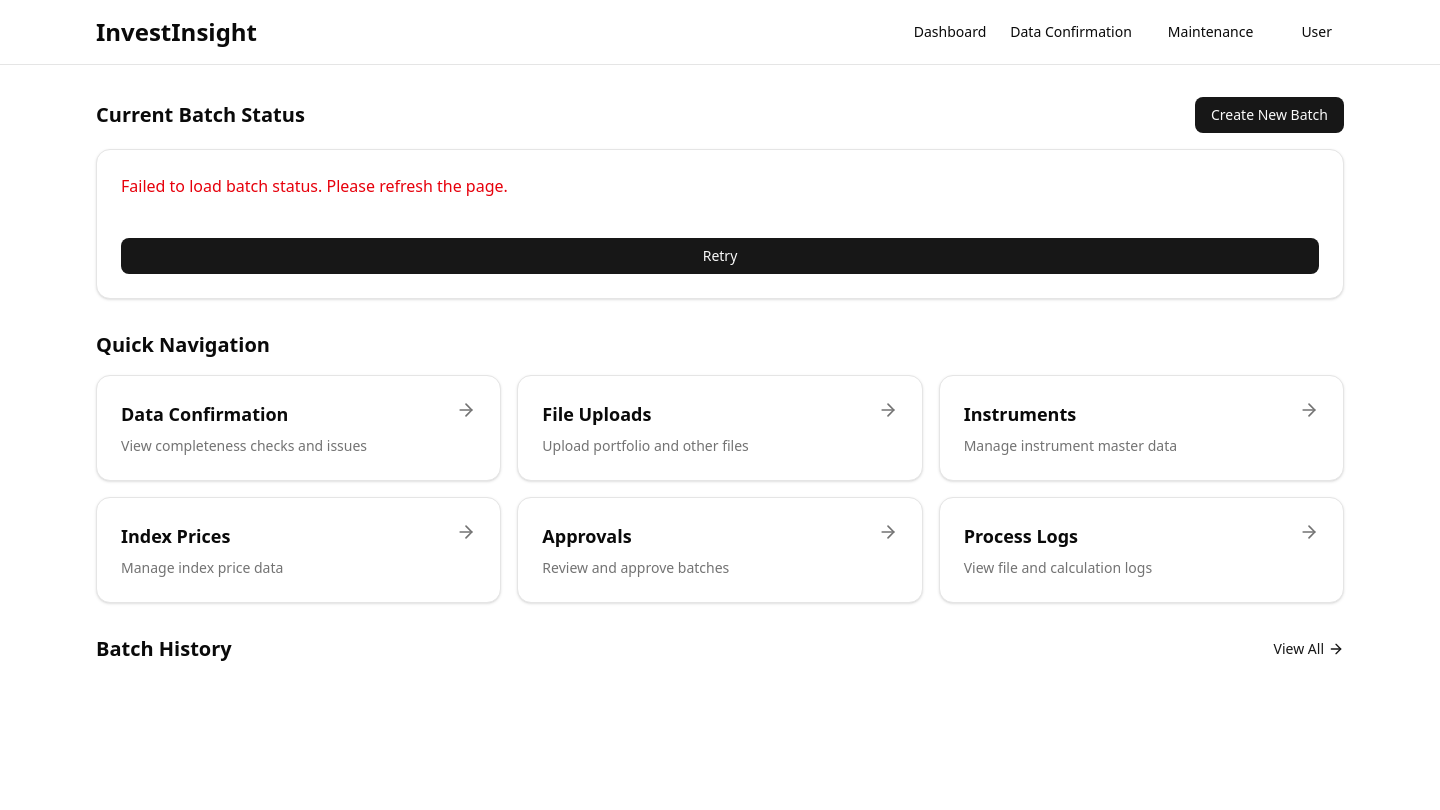
Test: HomePage - Create New Batch › Error Handling › displays error notification "Network error. Please check your connection." on network failure
Click the button "Create New Batch" at (1270, 115), box [1195,97,1344,133]
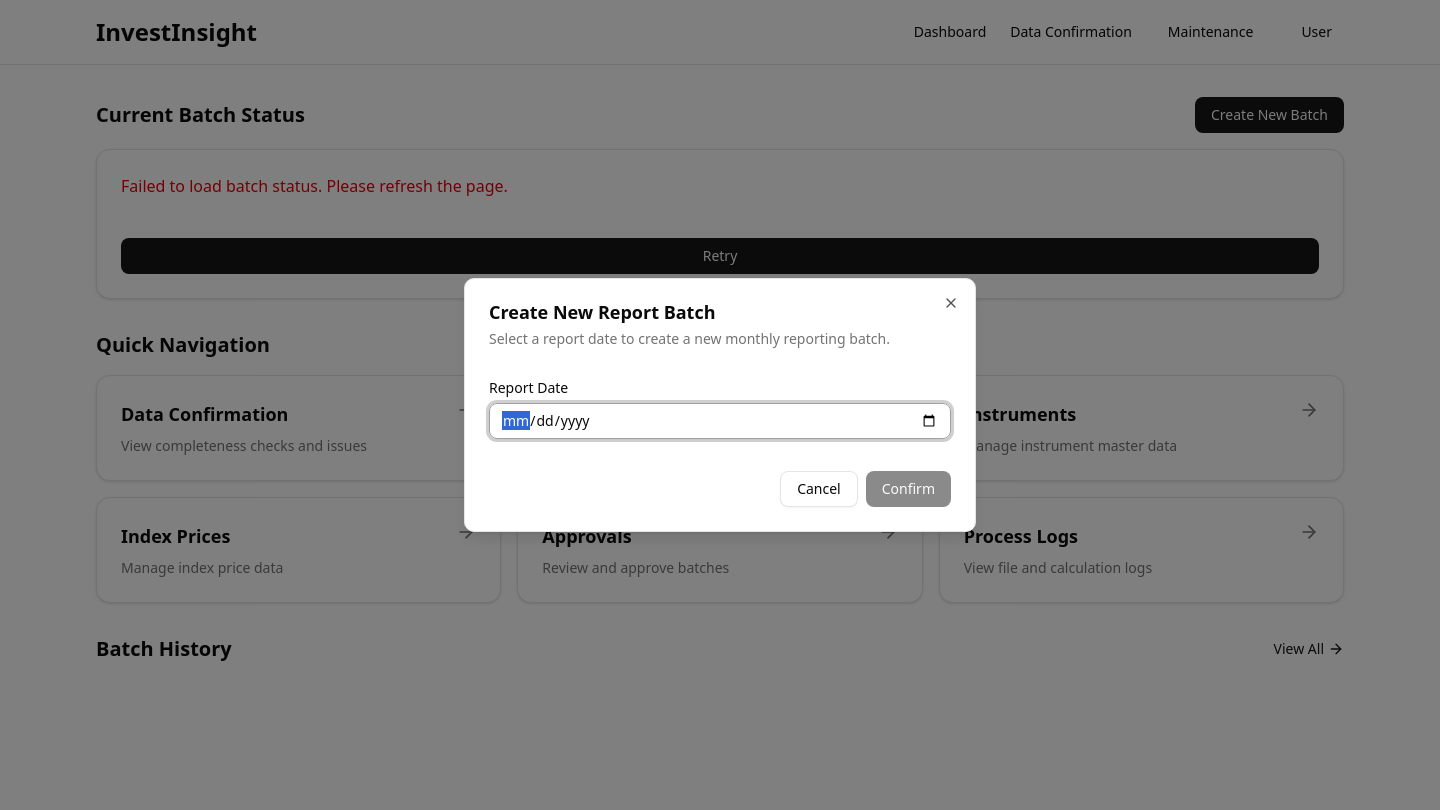
Type "2026-03-31" into the date field labelled "Report Date" at (720, 421), box [489,403,951,439]
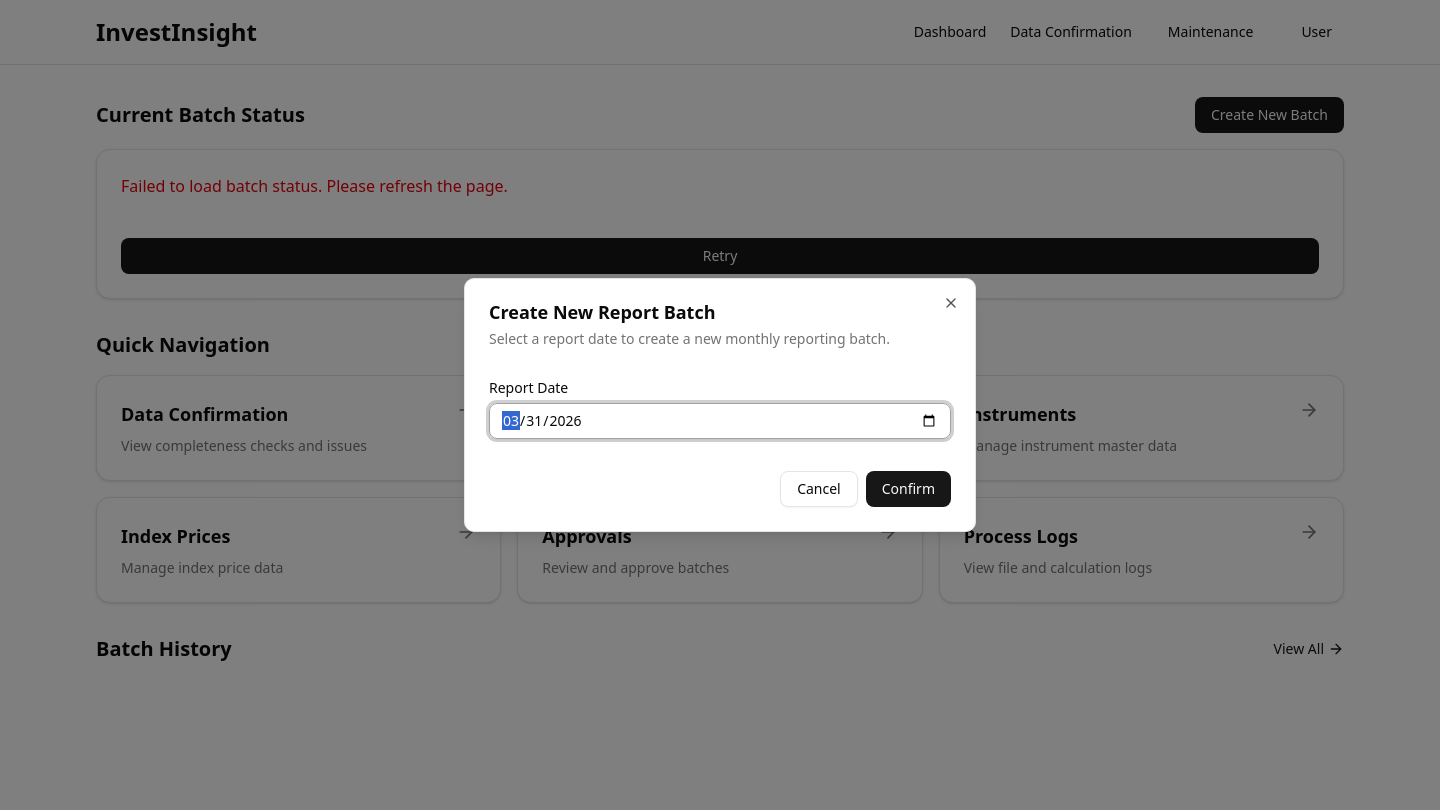
Click the button "Confirm" at (908, 489), box [866,471,951,507]
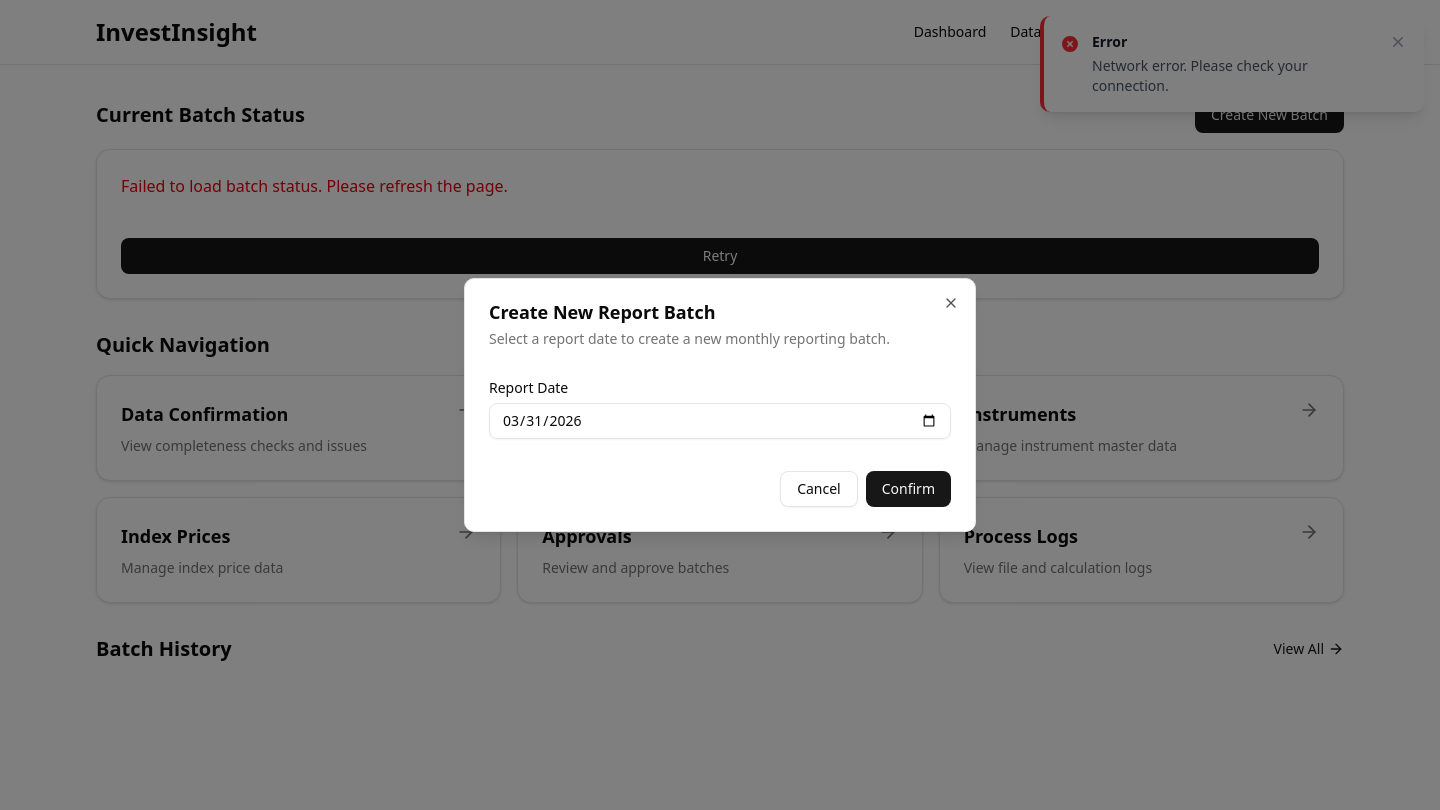
Check: the text "Network error. Please check your connection." is shown, box [1092,56,1308,95]
